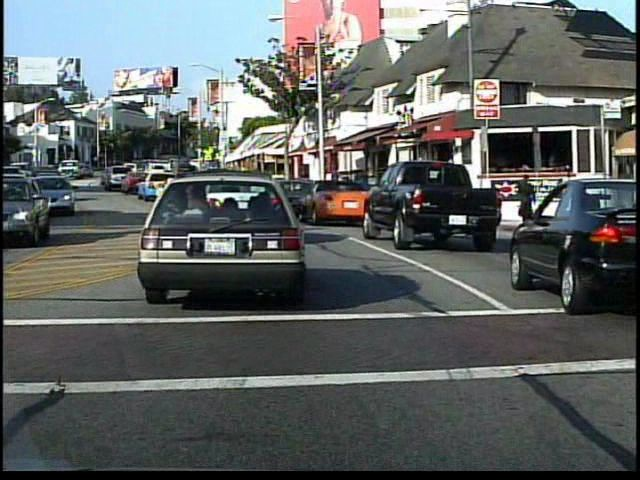person: (516, 169, 537, 231)
